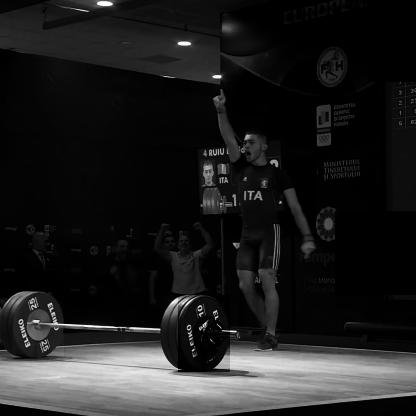barbell: (180, 296, 232, 373), (13, 292, 65, 359)
